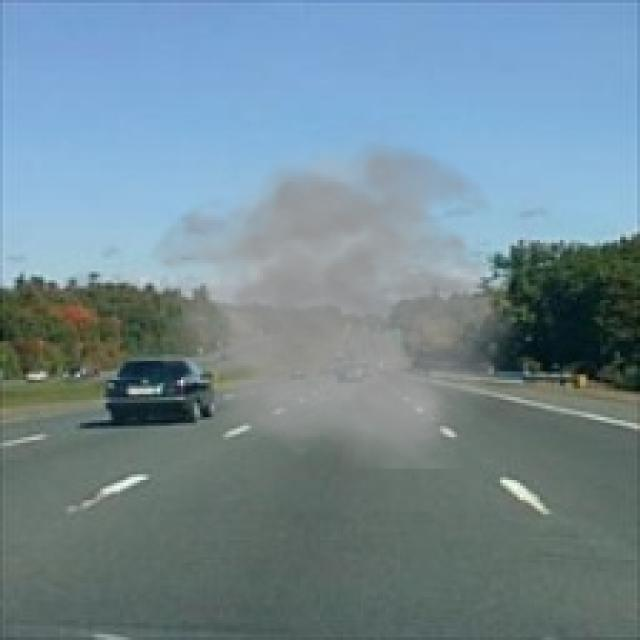Smoke: (146, 114, 528, 469)
